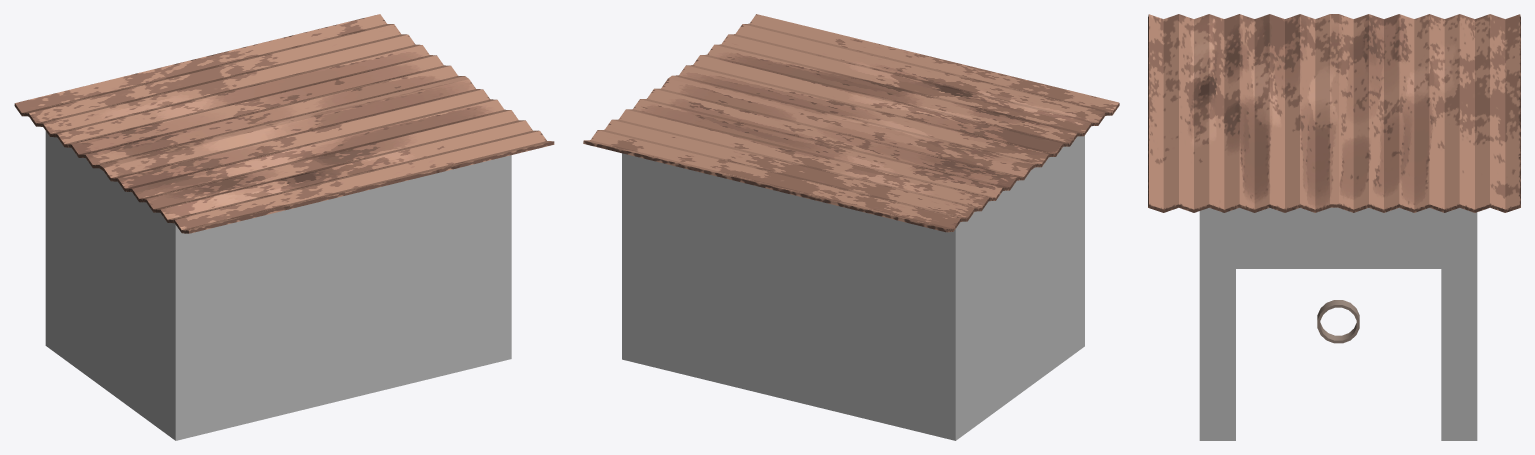
File: garaj (1).fbx
The picture shows the model from 3 angles, left to right: view 1: azimuth 30°, elevation 25°; view 2: azimuth 150°, elevation 25°; view 3: azimuth 270°, elevation 25°; orthographic projection. The views are drawn at different scales.
Parts seen in each view (by area): view 1: Cube.004, Plane.003; view 2: Cube.004, Plane.003; view 3: Plane.003, Cube.004, Cylinder.
Part boxes in pixels (bbox=[...]): Cube.004: bbox=[45, 131, 511, 440]; Plane.003: bbox=[14, 14, 554, 233]; Cube.004: bbox=[622, 135, 1084, 440]; Plane.003: bbox=[583, 14, 1119, 232]; Plane.003: bbox=[1148, 14, 1520, 212]; Cube.004: bbox=[1199, 207, 1477, 440]; Cylinder: bbox=[1317, 300, 1359, 343].
Size of the model in its own units: 190 by 115 by 158.
